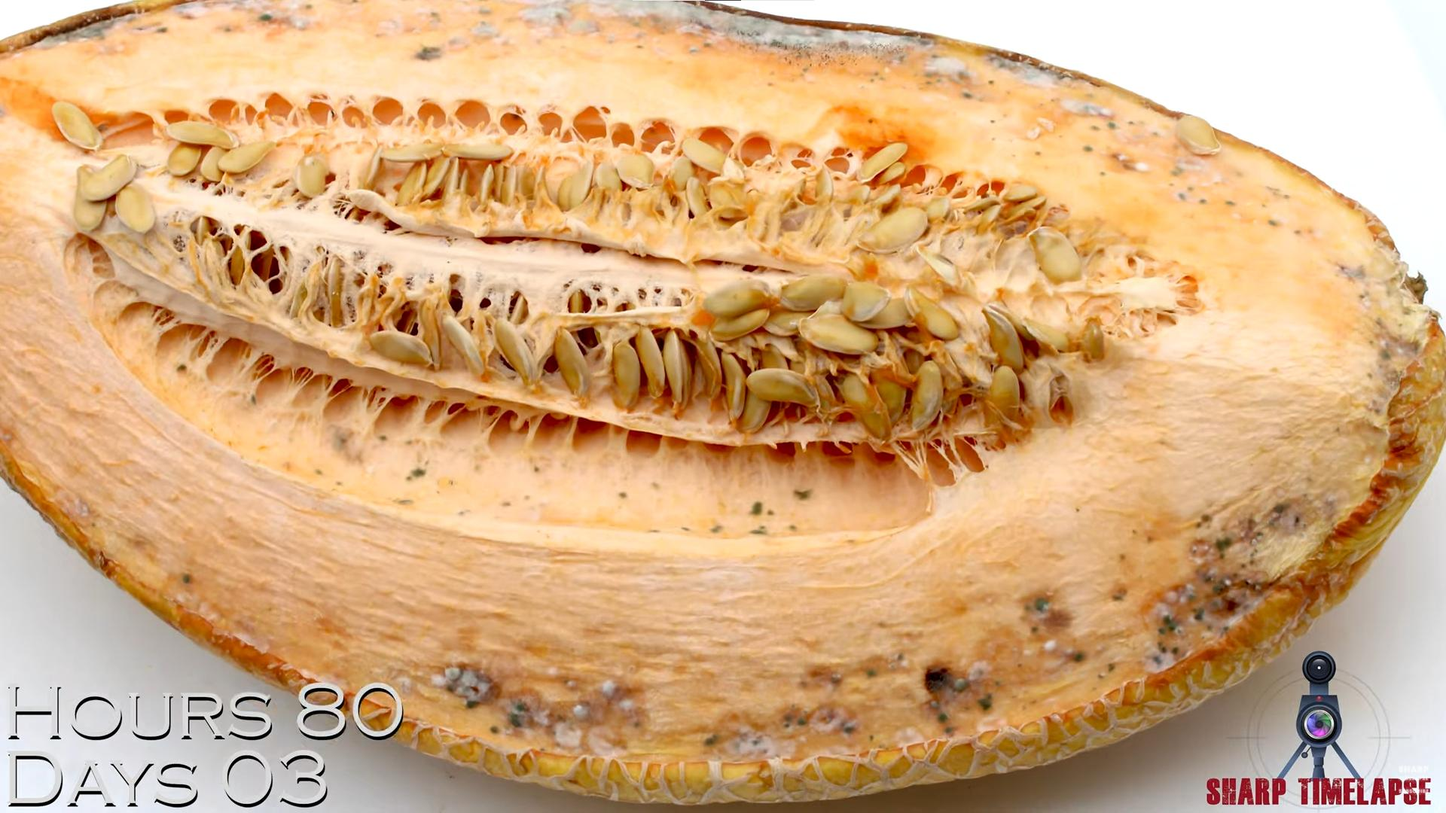Melon Rotten: (0, 0, 1445, 802)
